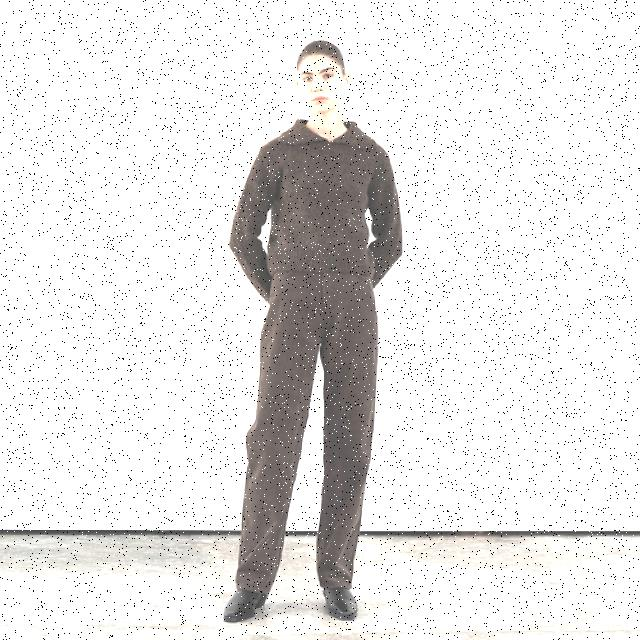Blouse_deep: (208, 255, 408, 595)
